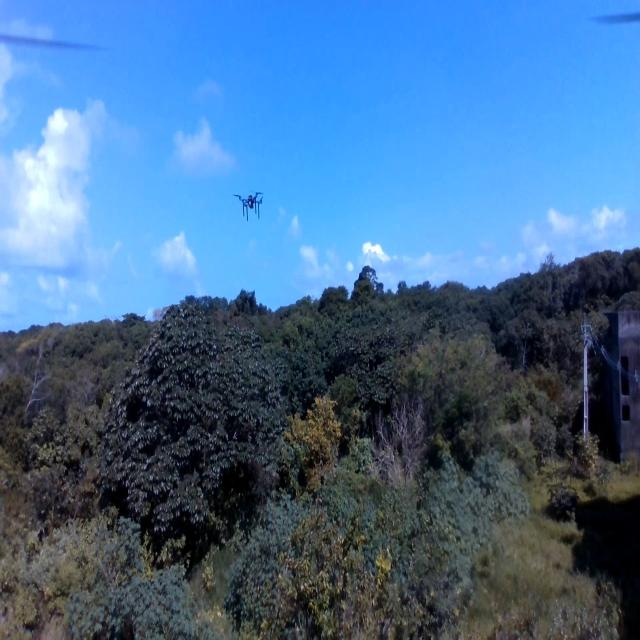-uav-: (225, 184, 271, 232)
